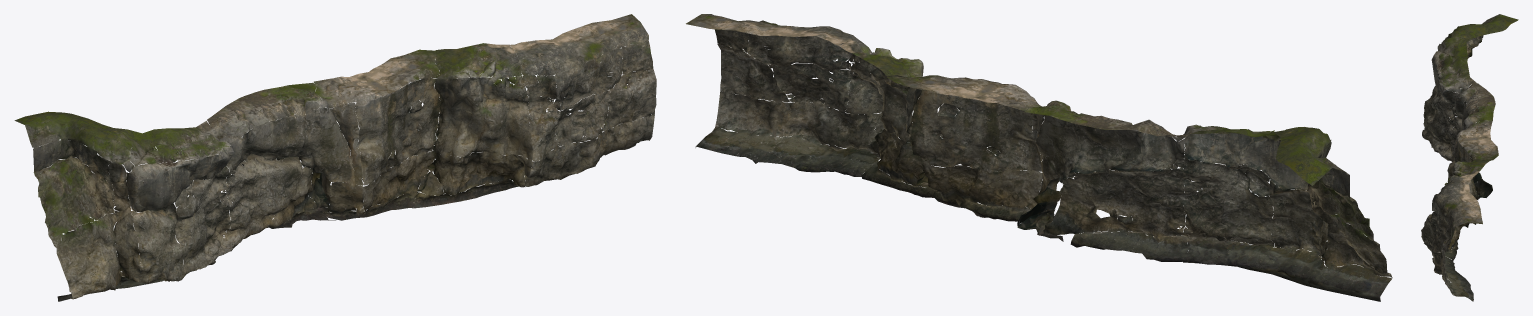
Rendered from coastal_cliff_02-game.glb.
The picture shows the model from 3 angles, left to right: view 1: azimuth 30°, elevation 25°; view 2: azimuth 150°, elevation 25°; view 3: azimuth 270°, elevation 25°; orthographic projection. The views are drawn at different scales.
Parts seen in each view (by area): view 1: coastal_cliff_02_LOD0; view 2: coastal_cliff_02_LOD0; view 3: coastal_cliff_02_LOD0.
Boxes of the visible parts, left/top/right/bottom form: coastal_cliff_02_LOD0: left=14, top=14, right=656, bottom=301; coastal_cliff_02_LOD0: left=686, top=14, right=1392, bottom=301; coastal_cliff_02_LOD0: left=1421, top=14, right=1518, bottom=301.
Bounding box in the file's own units: 40.94 × 10.04 × 8.63.
Materials: 1 (1 with a texture image).
